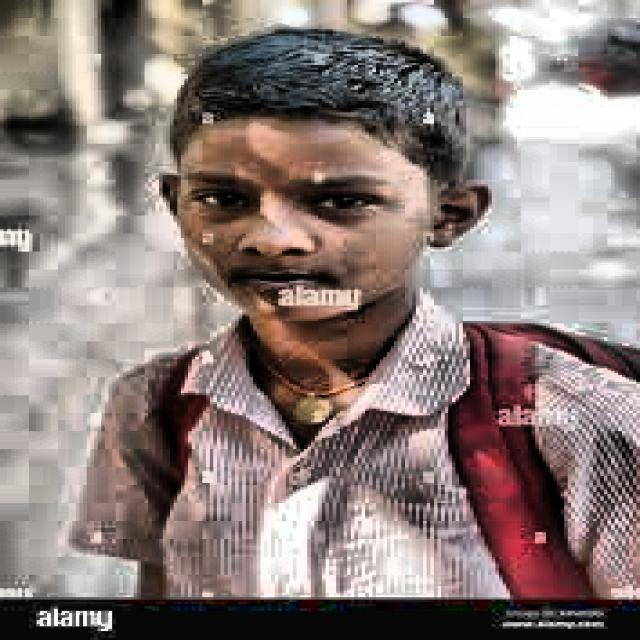Human: (83, 29, 640, 640)
